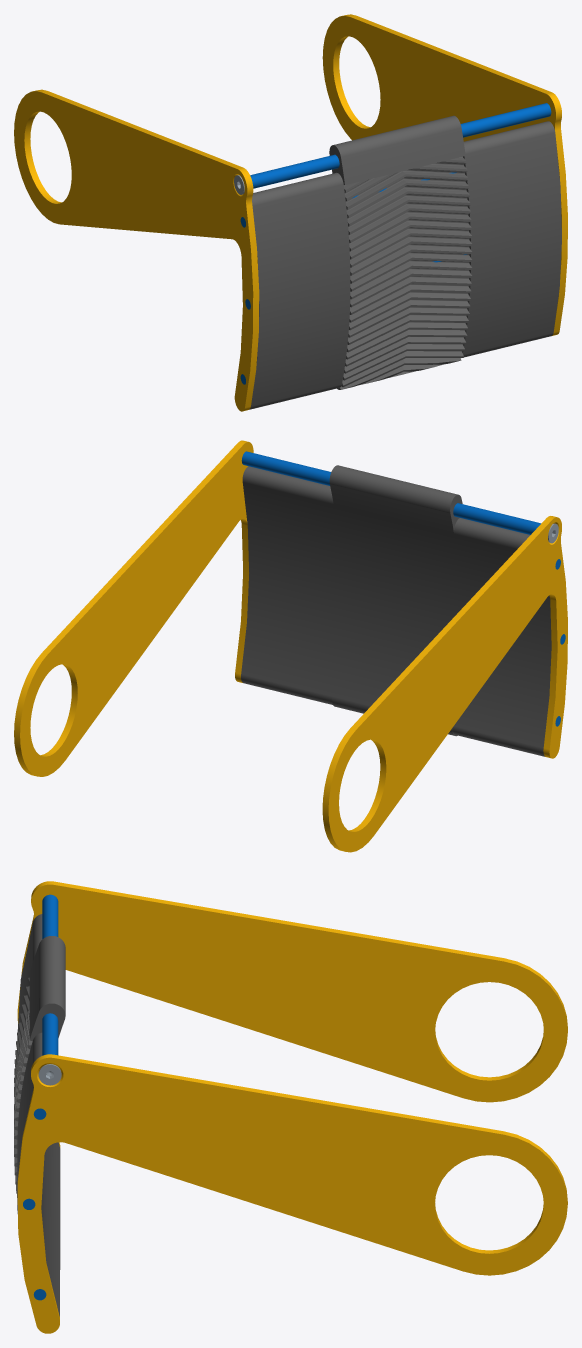
3 views of the same model, one above another, from view 1: azimuth 30°, elevation 25°; view 2: azimuth 150°, elevation 25°; view 3: azimuth 270°, elevation 25° (orthographic). The views are drawn at different scales.
Parts seen in each view (by area): view 1: 295T Hood Gear, Hood Left Side, Hood Right Side, Hood Mounting Shaft; view 2: 295T Hood Gear, Hood Left Side, Hood Right Side, Hood Mounting Shaft; view 3: Hood Right Side, Hood Left Side, 295T Hood Gear, Hood Mounting Shaft.
Part boxes in pixels (x1,y1,x2,y2): 295T Hood Gear: [249, 115, 561, 409]; Hood Left Side: [14, 89, 259, 411]; Hood Right Side: [322, 14, 567, 335]; Hood Mounting Shaft: [250, 103, 551, 188]; 295T Hood Gear: [241, 465, 551, 756]; Hood Left Side: [322, 516, 567, 852]; Hood Right Side: [14, 440, 253, 776]; Hood Mounting Shaft: [241, 451, 540, 534]; Hood Right Side: [17, 1054, 567, 1333]; Hood Left Side: [17, 881, 567, 1147]; 295T Hood Gear: [14, 914, 65, 1316]; Hood Mounting Shaft: [42, 894, 58, 1055].
Size of the model in its own units: 0.1658 by 0.1217 by 0.2197.
